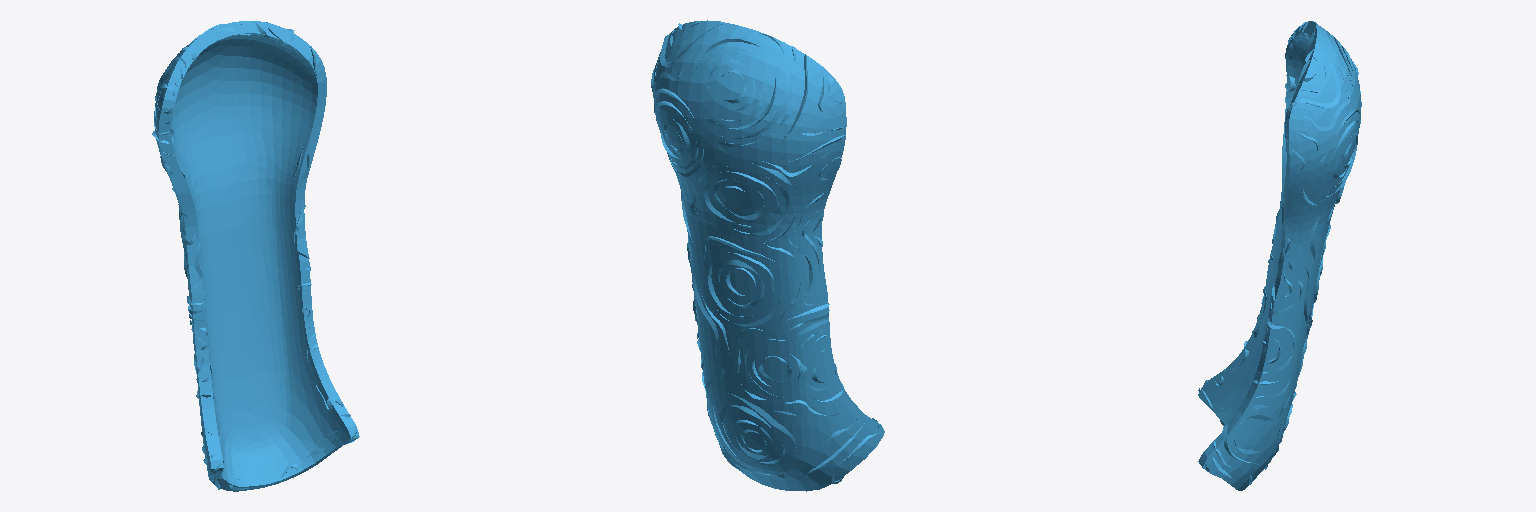
The robot description file, URDF, robot "calibration_skin":
<?xml version="1.0" ?>
<!-- =================================================================================== -->
<!-- |    This document was autogenerated by xacro from urdf/calibration/link5.xacro   | -->
<!-- |    EDITING THIS FILE BY HAND IS NOT RECOMMENDED                                 | -->
<!-- =================================================================================== -->
<robot name="calibration_skin">
  <!-- Create a base link for the calibration skin -->
  <link name="calibration_base"/>
  <!-- [m] -->
  <link name="calibration_skin">
    <visual>
      <origin rpy="0 0 0" xyz="0 0 0"/>
      <geometry>
        <mesh filename="package://gentact_ros_tools/meshes/skin/self-cap/link5_fancy.stl" scale="1 1 1"/>
      </geometry>
    </visual>
  </link>
  <joint name="calibration_base_joint" type="fixed">
    <origin rpy="0 0 0" xyz="0 0 0"/>
    <parent link="calibration_base"/>
    <child link="calibration_skin"/>
  </joint>
  <joint name="calibration_sensor_5_joint" type="fixed">
    <origin rpy="-1.403 -3.142 0.049" xyz="-0.004 0.115 -0.089"/>
    <axis xyz="-0.049 0.985 -0.167"/>
    <parent link="calibration_skin"/>
    <child link="calibration_sensor_5"/>
  </joint>
  <link name="calibration_sensor_5">
    <visual>
      <geometry>
        <sphere radius="0.0"/>
        <!-- [m] -->
      </geometry>
    </visual>
    <collision>
      <geometry>
        <sphere radius="0.0"/>
        <!-- [m] -->
      </geometry>
    </collision>
  </link>
  <joint name="calibration_sensor_1_joint" type="fixed">
    <origin rpy="-1.229 -3.142 0.054" xyz="-0.007 0.127 -0.038"/>
    <axis xyz="-0.05 0.941 -0.335"/>
    <parent link="calibration_skin"/>
    <child link="calibration_sensor_1"/>
  </joint>
  <link name="calibration_sensor_1">
    <visual>
      <geometry>
        <sphere radius="0.0"/>
        <!-- [m] -->
      </geometry>
    </visual>
    <collision>
      <geometry>
        <sphere radius="0.0"/>
        <!-- [m] -->
      </geometry>
    </collision>
  </link>
  <joint name="calibration_sensor_4_joint" type="fixed">
    <origin rpy="1.760 -0.000 2.750" xyz="0.026 0.130 -0.013"/>
    <axis xyz="0.375 0.908 -0.188"/>
    <parent link="calibration_skin"/>
    <child link="calibration_sensor_4"/>
  </joint>
  <link name="calibration_sensor_4">
    <visual>
      <geometry>
        <sphere radius="0.0"/>
        <!-- [m] -->
      </geometry>
    </visual>
    <collision>
      <geometry>
        <sphere radius="0.0"/>
        <!-- [m] -->
      </geometry>
    </collision>
  </link>
  <joint name="calibration_sensor_2_joint" type="fixed">
    <origin rpy="1.754 0.000 -2.906" xyz="-0.016 0.104 -0.138"/>
    <axis xyz="-0.23 0.956 -0.183"/>
    <parent link="calibration_skin"/>
    <child link="calibration_sensor_2"/>
  </joint>
  <link name="calibration_sensor_2">
    <visual>
      <geometry>
        <sphere radius="0.0"/>
        <!-- [m] -->
      </geometry>
    </visual>
    <collision>
      <geometry>
        <sphere radius="0.0"/>
        <!-- [m] -->
      </geometry>
    </collision>
  </link>
  <joint name="calibration_sensor_3_joint" type="fixed">
    <origin rpy="1.136 0.000 -3.040" xyz="-0.007 0.133 0.023"/>
    <axis xyz="-0.092 0.902 0.422"/>
    <parent link="calibration_skin"/>
    <child link="calibration_sensor_3"/>
  </joint>
  <link name="calibration_sensor_3">
    <visual>
      <geometry>
        <sphere radius="0.0"/>
        <!-- [m] -->
      </geometry>
    </visual>
    <collision>
      <geometry>
        <sphere radius="0.0"/>
        <!-- [m] -->
      </geometry>
    </collision>
  </link>
  <joint name="calibration_sensor_0_joint" type="fixed">
    <origin rpy="-1.262 3.142 0.019" xyz="-0.000 0.096 -0.184"/>
    <axis xyz="-0.018 0.953 -0.304"/>
    <parent link="calibration_skin"/>
    <child link="calibration_sensor_0"/>
  </joint>
  <link name="calibration_sensor_0">
    <visual>
      <geometry>
        <sphere radius="0.0"/>
        <!-- [m] -->
      </geometry>
    </visual>
    <collision>
      <geometry>
        <sphere radius="0.0"/>
        <!-- [m] -->
      </geometry>
    </collision>
  </link>
</robot>

--- What the picture shows (computed from the rendered views, not written in the file) ---
3 views of the same robot in one strip: view 1: azimuth 30°, elevation 25°; view 2: azimuth 150°, elevation 25°; view 3: azimuth 270°, elevation 25° (orthographic).
Robot: calibration_skin — 8 links, 7 joints (7 fixed); root link calibration_base; default pose: every joint at zero.
Visible links, largest first — view 1: calibration_skin; view 2: calibration_skin; view 3: calibration_skin.
Boxes of the visible links, x1,y1,x2,y2 form: calibration_skin: [152, 21, 359, 491]; calibration_skin: [651, 20, 884, 491]; calibration_skin: [1198, 21, 1361, 490].
Bounding box of the posed robot: 0.1063 × 0.0879 × 0.2641 m (x, y, z).
Meshes: 1 distinct files referenced, 1 mesh visuals loaded (1 binary STL).